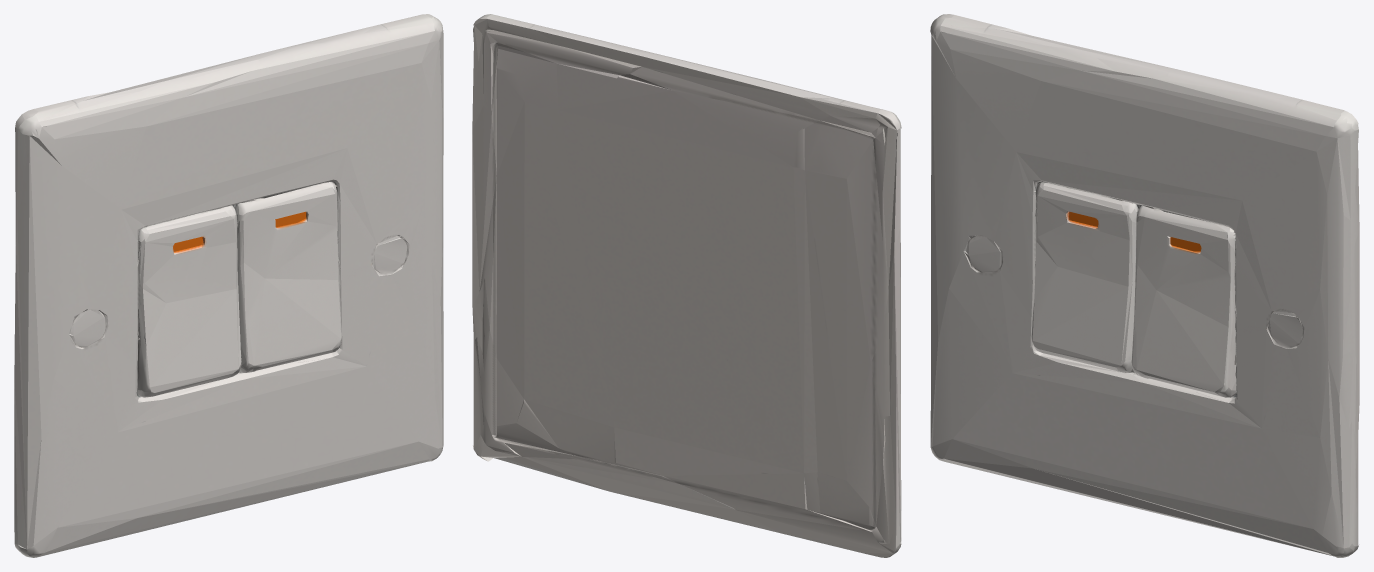
The model's file is remeshed-switch.glb.
3 renders of one model, left to right at view 1: azimuth 30°, elevation 25°; view 2: azimuth 150°, elevation 25°; view 3: azimuth 330°, elevation 25°, orthographic.
Visible parts, largest first — view 1: output_unwrapped; view 2: output_unwrapped; view 3: output_unwrapped.
Part boxes in pixels (x1=…): output_unwrapped: x1=14, y1=14, x2=443, y2=557; output_unwrapped: x1=472, y1=14, x2=901, y2=557; output_unwrapped: x1=930, y1=14, x2=1359, y2=557.
Size of the model in its own units: 1.9 by 1.9 by 0.1584.
1 material, 1 textured.
